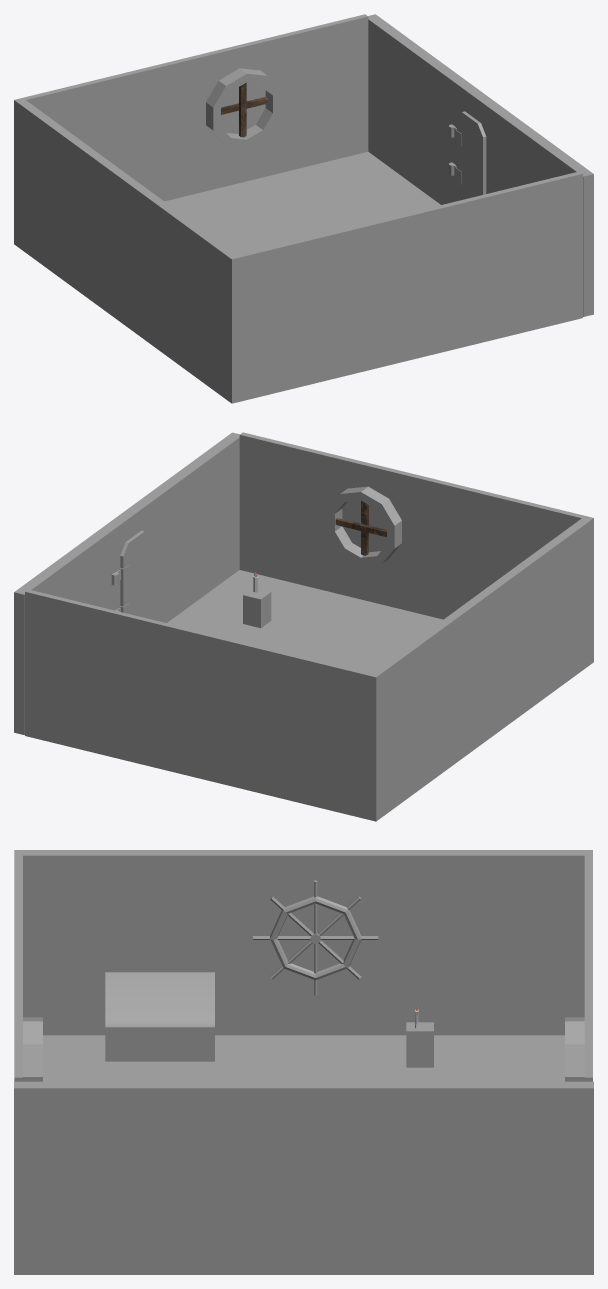
File: jiashishi.fbx
3 views of the same model, one above another, from view 1: azimuth 30°, elevation 25°; view 2: azimuth 150°, elevation 25°; view 3: azimuth 270°, elevation 25° (orthographic). The views are drawn at different scales.
Parts seen in each view (by area): view 1: pCube1, 立方体.067, pasted__立方体.073, door:pCube3; view 2: pCube1, 立方体.067, 立方体.073, door:pCube3, pCube2; view 3: pCube1, 立方体.067, pCube3, polySurface2, 立方体.073, pasted__立方体.073, pasted__pCube2.
Part boxes in pixels (<box>): pCube1: <box>14,14,582,403</box>; 立方体.067: <box>368,14,593,316</box>; pasted__立方体.073: <box>206,68,280,147</box>; door:pCube3: <box>448,111,486,200</box>; pCube1: <box>25,432,593,821</box>; 立方体.067: <box>14,432,239,734</box>; 立方体.073: <box>327,486,401,565</box>; door:pCube3: <box>111,530,149,618</box>; pCube2: <box>243,588,271,628</box>; pCube1: <box>14,850,592,1081</box>; 立方体.067: <box>14,1081,593,1274</box>; pCube3: <box>105,972,214,1061</box>; polySurface2: <box>253,880,378,995</box>; 立方体.073: <box>23,1017,42,1081</box>; pasted__立方体.073: <box>565,1017,584,1081</box>; pasted__pCube2: <box>406,1022,433,1067</box>.
Bounding box in the file's own units: 19.93 × 7.59 × 20.83.
